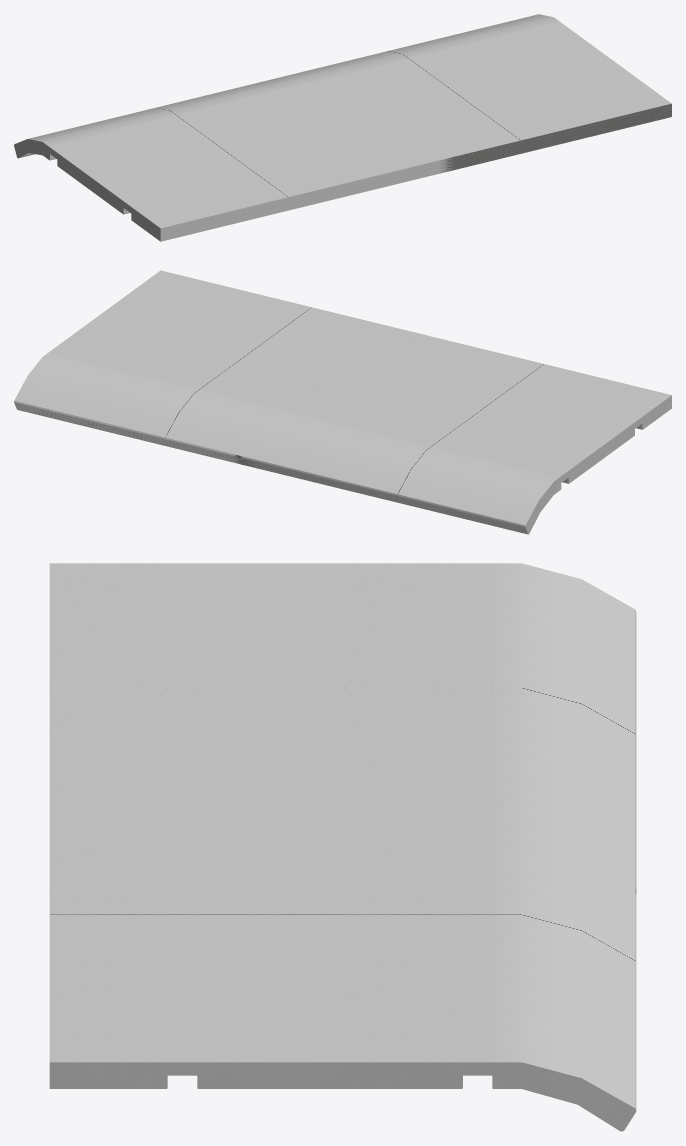
The model's file is CeilingEndWide.fbx.
The picture shows the model from 3 angles, top to bottom: view 1: azimuth 30°, elevation 25°; view 2: azimuth 150°, elevation 25°; view 3: azimuth 270°, elevation 25°; orthographic projection. The views are drawn at different scales.
Parts seen in each view (by area): view 1: CeilingEndWide; view 2: CeilingEndWide; view 3: CeilingEndWide.
Part boxes in pixels (x1,y1,x2,y2): CeilingEndWide: [14, 14, 671, 241]; CeilingEndWide: [14, 270, 671, 534]; CeilingEndWide: [49, 563, 636, 1131].
Bounding box in the file's own units: 8 × 0.5185 × 3.98.
